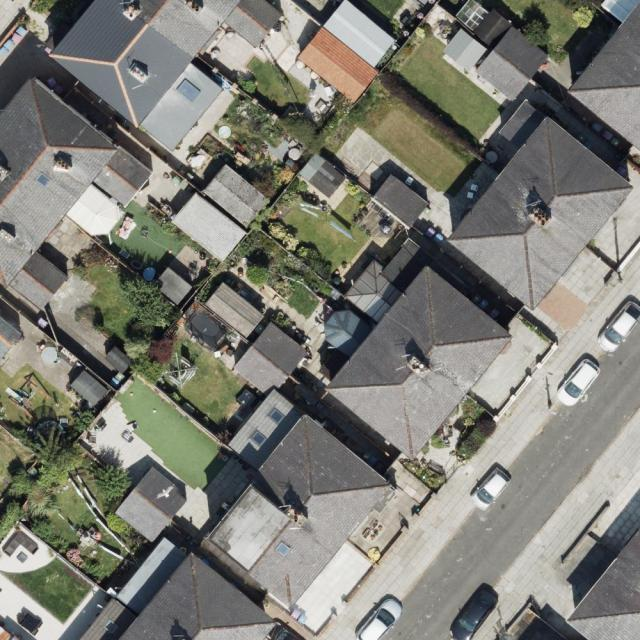roof: (202, 279, 405, 612), (323, 230, 514, 464), (449, 110, 637, 313), (0, 78, 158, 313), (45, 0, 282, 155), (75, 533, 279, 640), (296, 0, 402, 107), (568, 0, 640, 153), (112, 465, 192, 543)
skylight: (171, 76, 202, 106), (271, 537, 292, 560), (35, 167, 52, 189), (249, 426, 265, 449), (100, 619, 120, 637), (266, 404, 284, 422)
